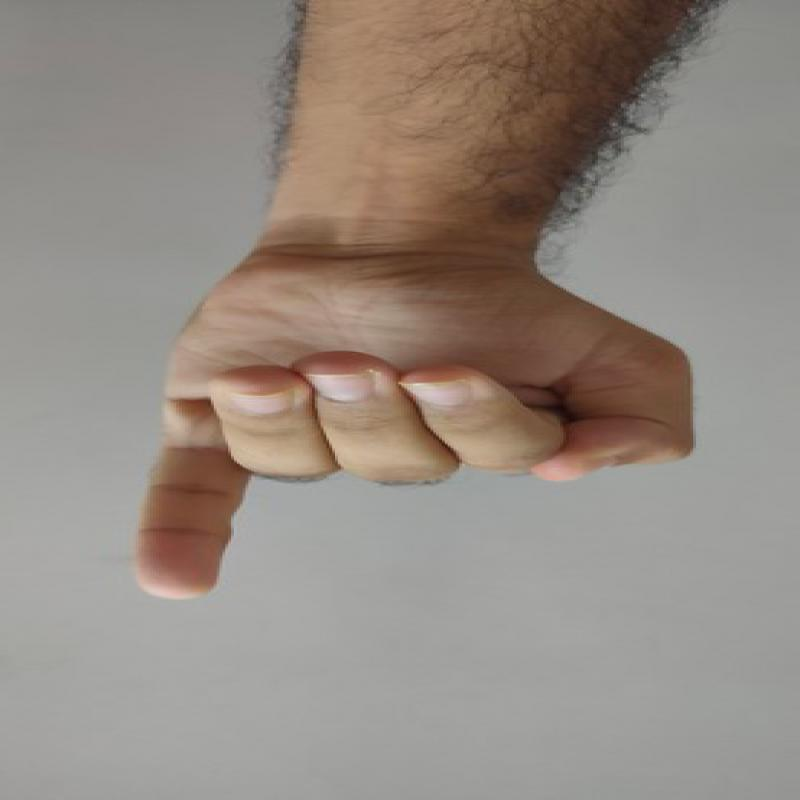Kartharee Mukham: (108, 225, 705, 614)
